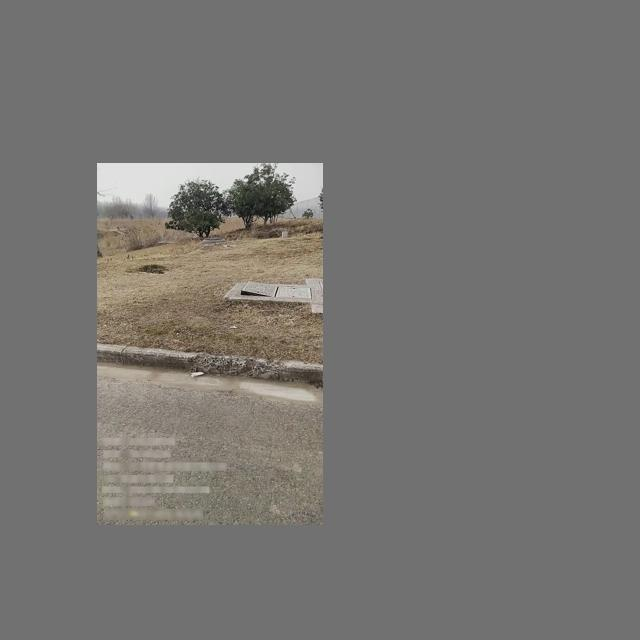uncovered: (235, 279, 312, 300)
